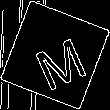M_NW: (23, 23, 87, 87)
